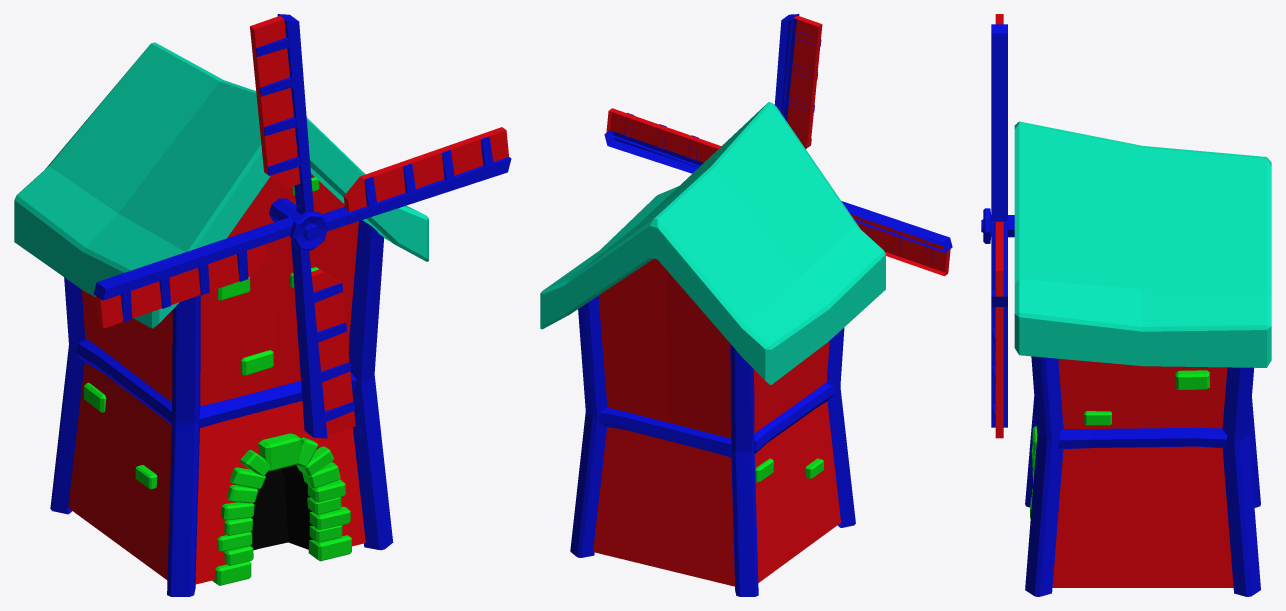
File: SM_Mill2.fbx
The picture shows the model from 3 angles, left to right: view 1: azimuth 30°, elevation 25°; view 2: azimuth 150°, elevation 25°; view 3: azimuth 270°, elevation 25°; orthographic projection. The views are drawn at different scales.
Visible parts, largest first — view 1: SM_Mill2; view 2: SM_Mill2; view 3: SM_Mill2.
Part boxes in pixels (<box>): SM_Mill2: <box>14,14,511,596</box>; SM_Mill2: <box>540,14,952,596</box>; SM_Mill2: <box>981,14,1271,596</box>.
Bounding box in the file's own units: 432 × 579 × 295.
